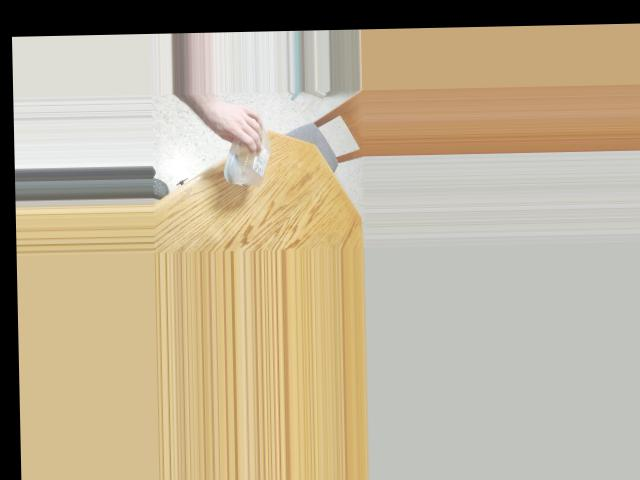cheese: (221, 113, 269, 167)
